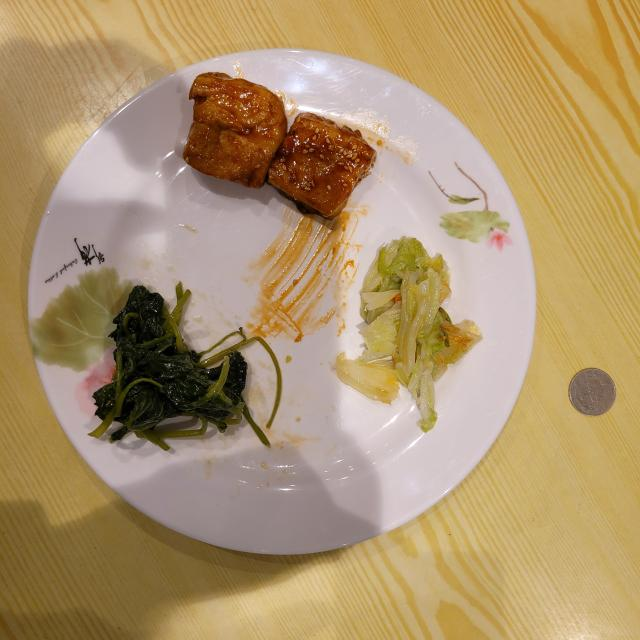cabbage: (335, 238, 482, 431)
coin: (569, 369, 616, 416)
creamy tofu: (182, 72, 376, 219)
sweet potato leaves: (89, 282, 281, 450)
